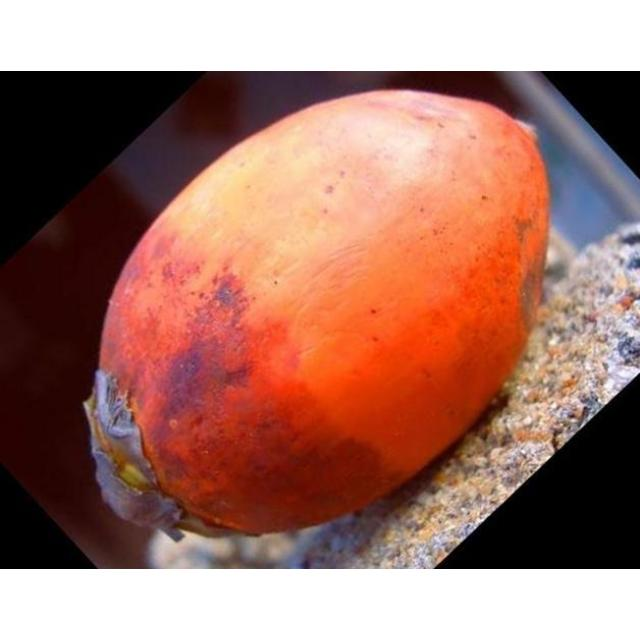good: (84, 89, 551, 541)
